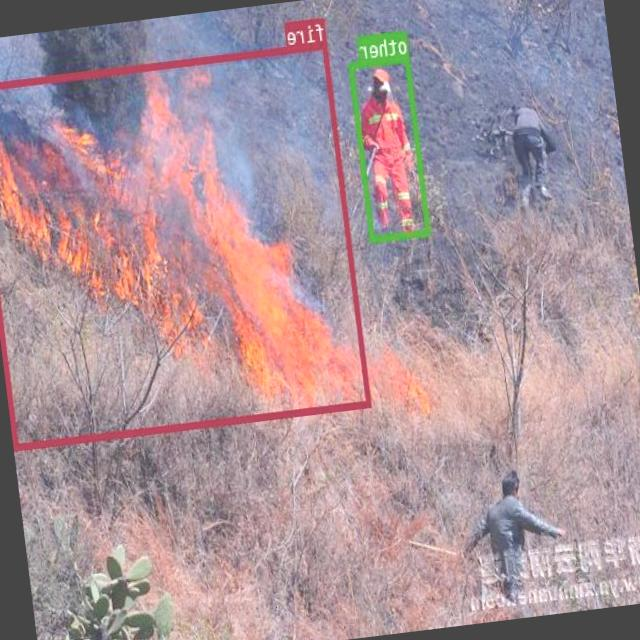fire: (0, 40, 371, 447)
